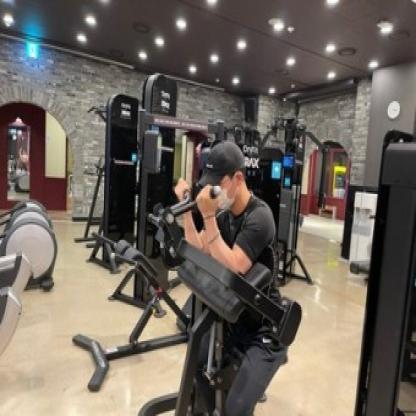arm curl machine: (149, 176, 304, 416)
